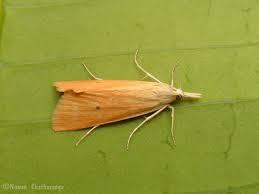Insects: (48, 45, 204, 152)
